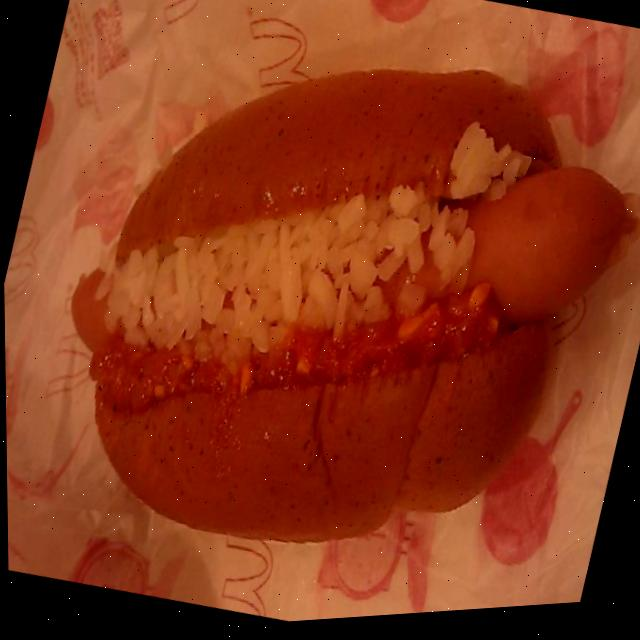汉堡快餐: (3, 0, 640, 632)
